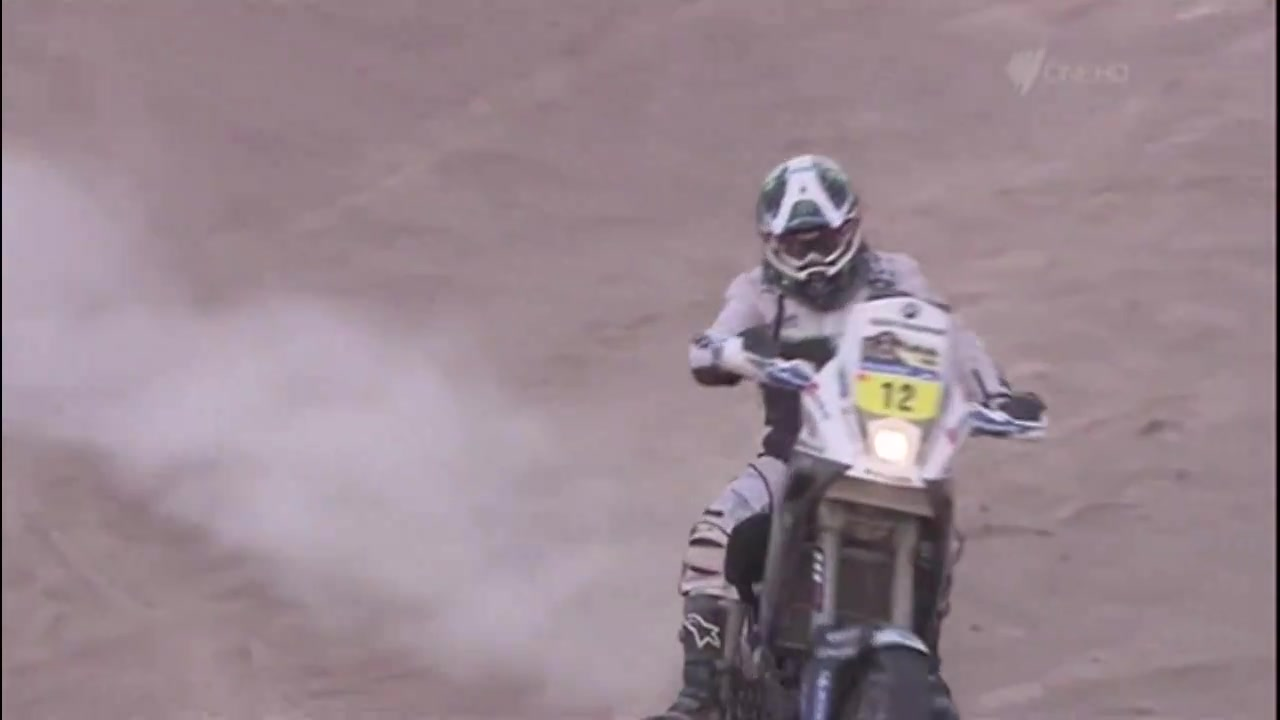motorbike: (689, 288, 1036, 720)
